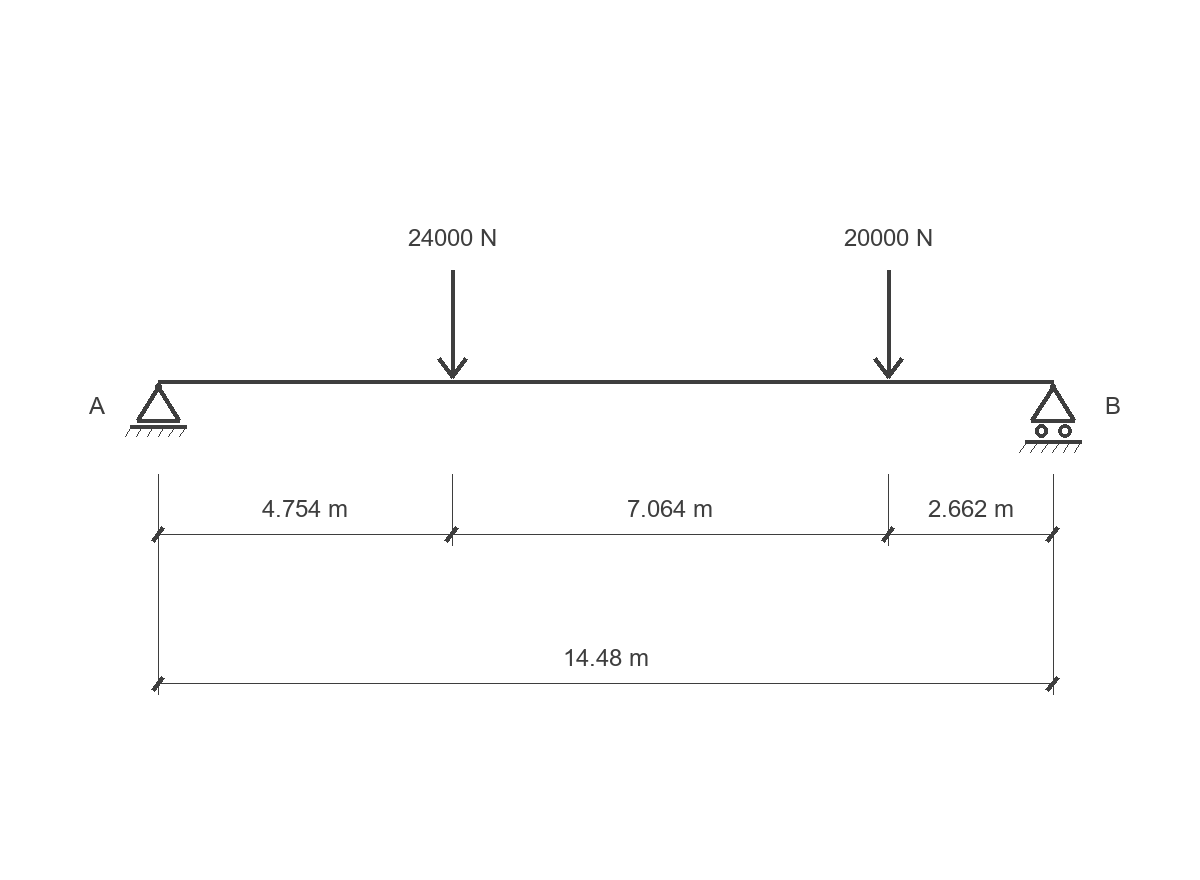pin_support: (125, 383, 187, 437)
point_load: (437, 270, 468, 379), (873, 270, 904, 379)
roller_support: (1019, 383, 1082, 453)
